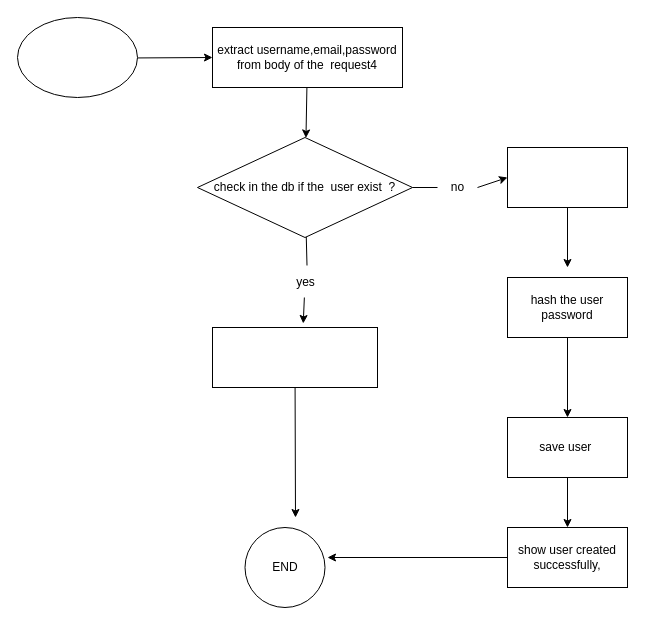
This 645x625 diagram has some shape labels left out. The shapes that lost their labels are listed below. From the top down, each one's box as (x1, y1, x2, y2) in pixels, then its label:
(16, 16, 138, 98): start
(506, 146, 628, 208): Create new User
(212, 326, 378, 388): reutrn user already exist
